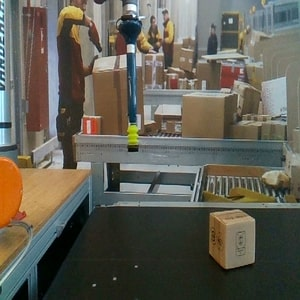box: (207, 209, 257, 270)
